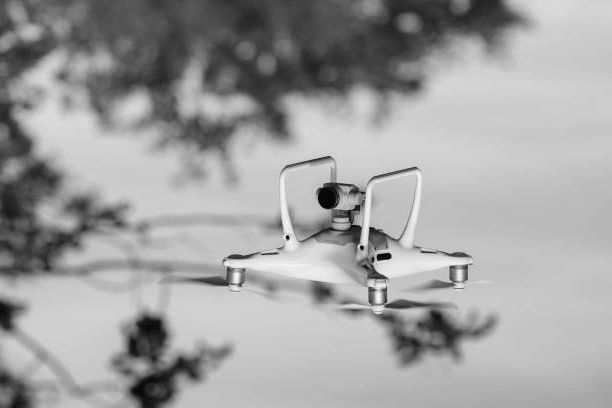Drone: (151, 153, 498, 317)
